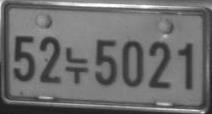0: (120, 40, 143, 87)
1: (175, 43, 198, 89)
2: (148, 40, 172, 89), (39, 35, 61, 84)
5: (94, 37, 118, 86), (13, 35, 35, 82)
누: (64, 46, 90, 85)
